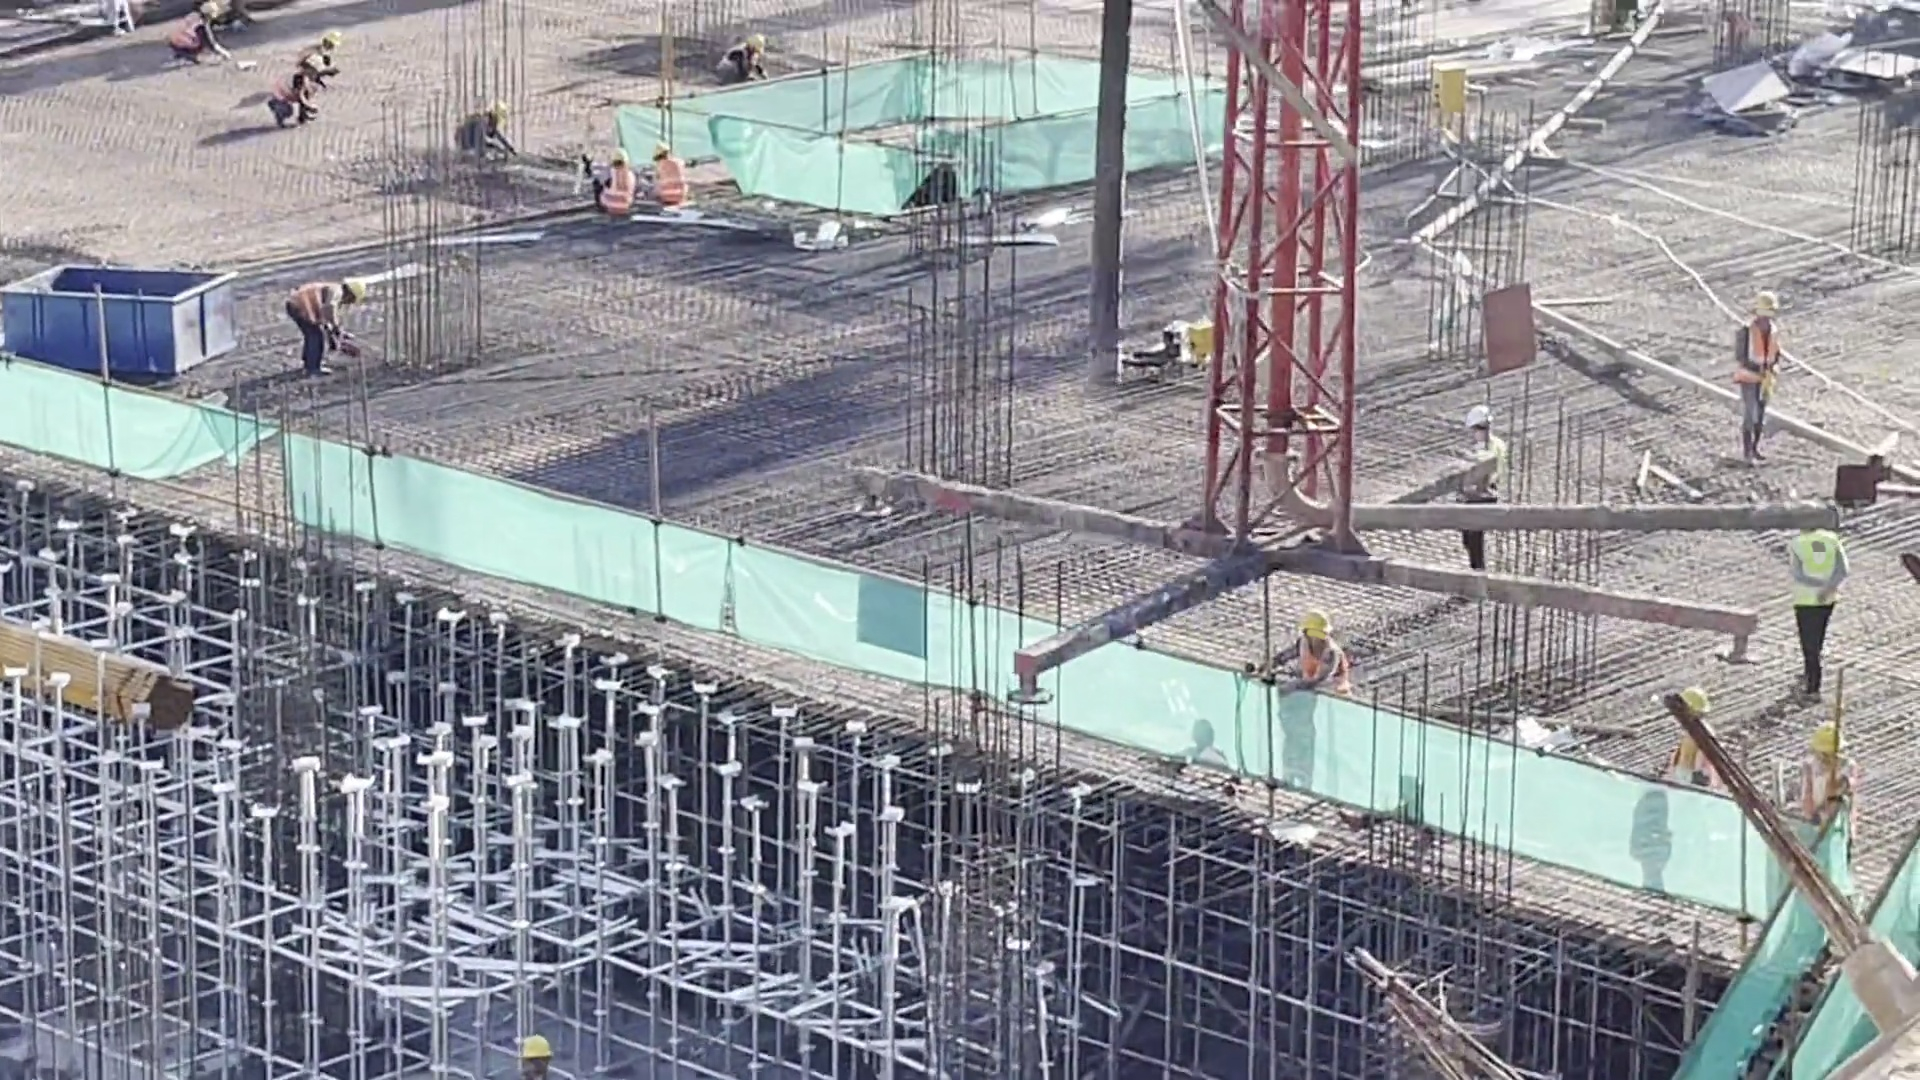helmet: (1797, 720, 1847, 752), (1301, 610, 1339, 650), (1676, 685, 1705, 717), (518, 1037, 553, 1060), (347, 281, 366, 310), (1465, 404, 1491, 425), (1756, 293, 1775, 317), (606, 144, 631, 161), (321, 31, 342, 52), (749, 33, 767, 54), (491, 98, 509, 118), (305, 54, 326, 71), (200, 4, 219, 20), (651, 144, 671, 157)
person: (1782, 495, 1859, 698), (1451, 394, 1523, 598), (1255, 601, 1363, 723), (1725, 278, 1784, 482), (1789, 716, 1869, 848), (277, 269, 370, 380), (1658, 679, 1719, 800), (256, 61, 329, 146), (444, 85, 521, 165), (641, 143, 700, 222), (703, 32, 780, 91), (585, 139, 644, 216), (162, 2, 230, 68), (503, 1030, 565, 1080), (297, 31, 341, 98)
vest: (1791, 538, 1840, 617), (1799, 774, 1852, 828), (1664, 735, 1717, 788), (1294, 640, 1346, 692), (1742, 326, 1780, 395), (1465, 439, 1506, 495), (287, 280, 336, 326), (652, 162, 682, 206), (603, 173, 634, 213), (175, 12, 201, 52), (293, 38, 325, 69), (717, 49, 756, 73), (276, 81, 305, 109)
